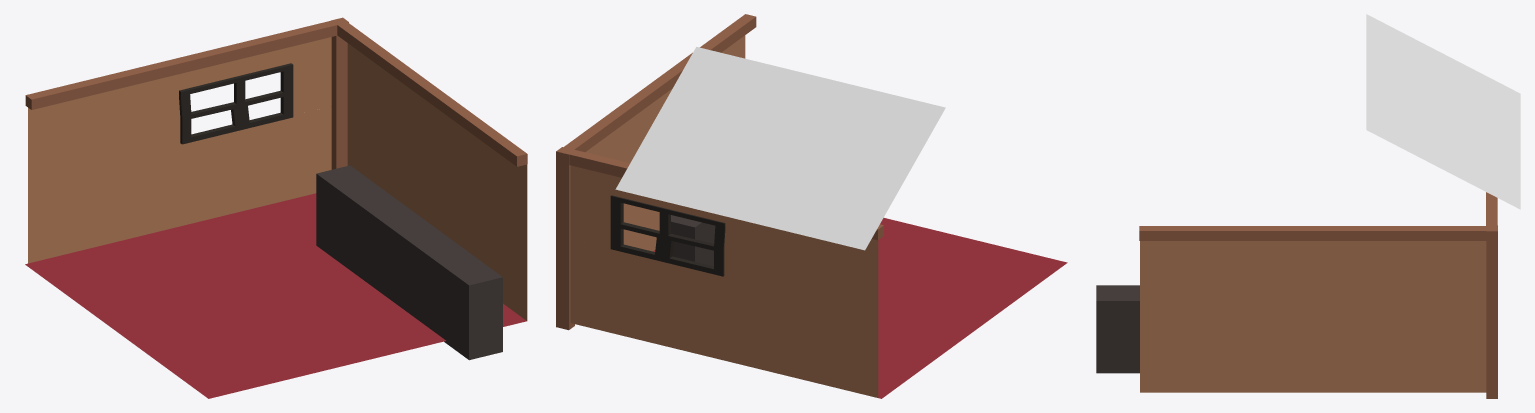
Rendered from room.gltf.
The picture shows the model from 3 angles, left to right: view 1: azimuth 30°, elevation 25°; view 2: azimuth 150°, elevation 25°; view 3: azimuth 270°, elevation 25°; orthographic projection. The views are drawn at different scales.
Visible parts, largest first — view 1: Plane.002, Plane, Plane.001, Cube.003, Cube.001, Cube.002, window frame, Cube; view 2: Plane.003, Plane, Plane.002, window frame, Plane.001, Cube.002, Cube, Cube.003, Cube.001; view 3: Plane.001, Plane.003, Cube.002, Cube.003, Cube, Cube.001.
Boxes of the visible parts, x1,y1,x2,y2 form: Plane.002: (25,193,526,398); Plane: (28,37,331,263); Plane.001: (347,43,527,320); Cube.003: (316,165,502,360); Cube.001: (25,18,347,109); Cube.002: (335,20,527,166); window frame: (179,63,293,144); Cube: (331,17,348,169); Plane.003: (615,47,945,250); Plane: (570,165,878,397); Plane.002: (653,218,1067,398); window frame: (610,195,725,276); Plane.001: (585,35,745,251); Cube.002: (561,14,756,151); Cube: (556,147,574,330); Cube.003: (671,215,715,266); Cube.001: (558,149,883,240); Plane.001: (1140,241,1486,392); Plane.003: (1366,14,1520,209); Cube.002: (1139,226,1491,240); Cube.003: (1096,285,1139,373); Cube: (1486,225,1497,398); Cube.001: (1486,192,1497,230).
Bounding box in the file's own units: 4.02 × 2.93 × 4.78.
Materials: 1 (1 with a texture image).
